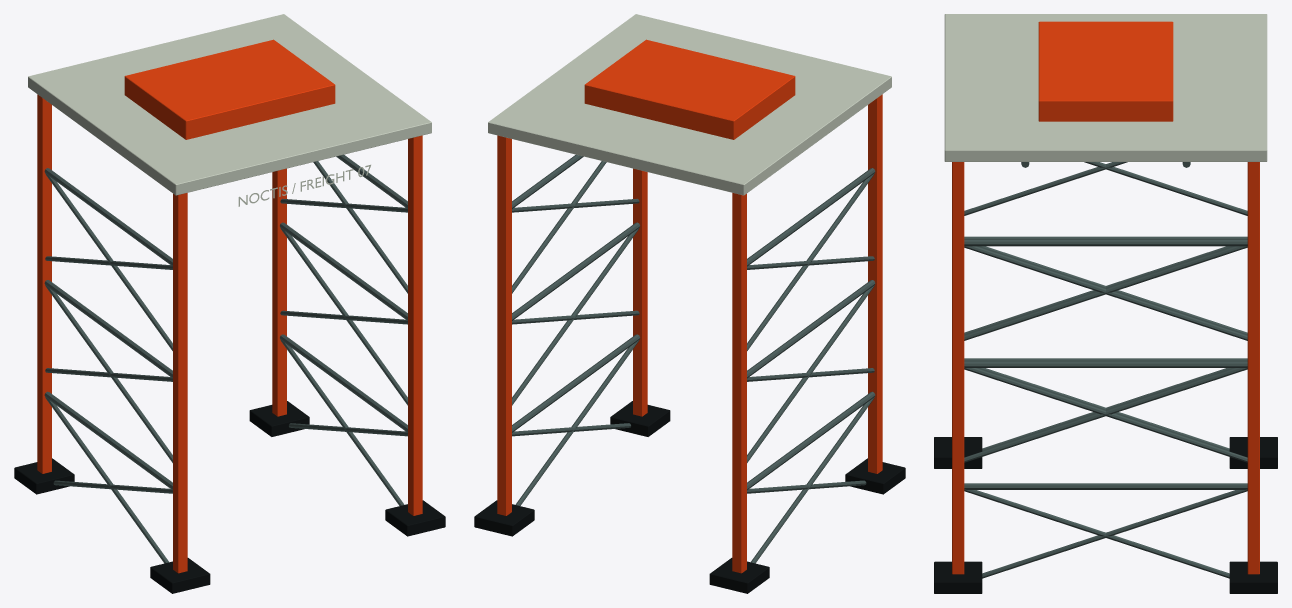
Rendered from SM_MP_Noctis_Headframe.fbx.
3 renders of one model, left to right at view 1: azimuth 30°, elevation 25°; view 2: azimuth 150°, elevation 25°; view 3: azimuth 270°, elevation 25°, orthographic. The views are drawn at different scales.
Visible parts, largest first — view 1: SM_MP_Noctis_Headframe; view 2: SM_MP_Noctis_Headframe; view 3: SM_MP_Noctis_Headframe.
Part boxes in pixels (x1,y1,x2,y2): SM_MP_Noctis_Headframe: (14, 14, 445, 593); SM_MP_Noctis_Headframe: (474, 14, 905, 593); SM_MP_Noctis_Headframe: (934, 14, 1277, 593).
Size of the model in its own units: 1280 by 1280 by 1899.
1 material, 1 textured.
